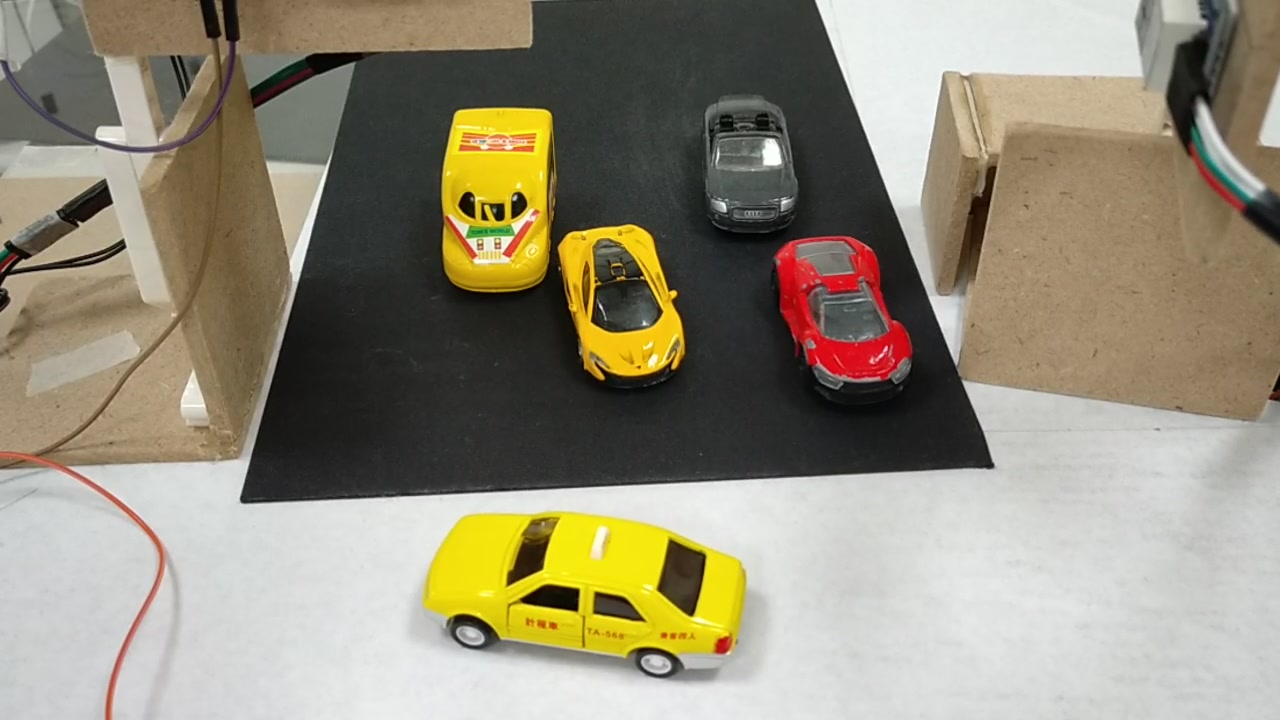car: (424, 509, 749, 683), (765, 237, 922, 401), (555, 228, 692, 389), (693, 95, 801, 233)
